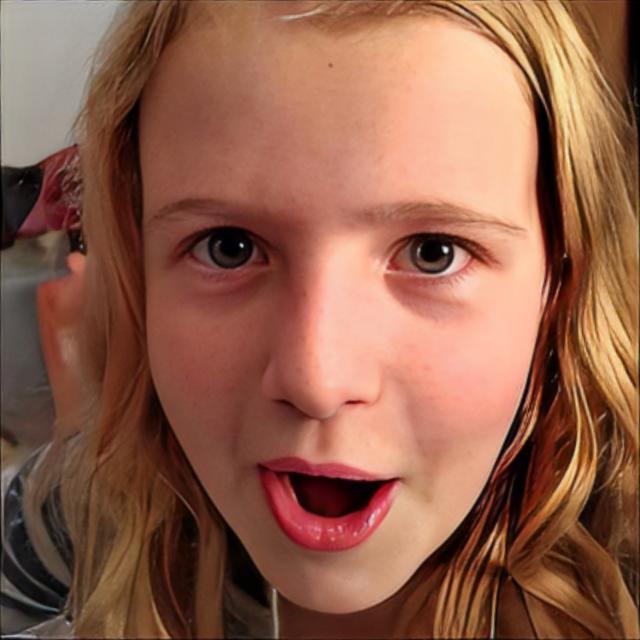surprise: (133, 0, 548, 616)
